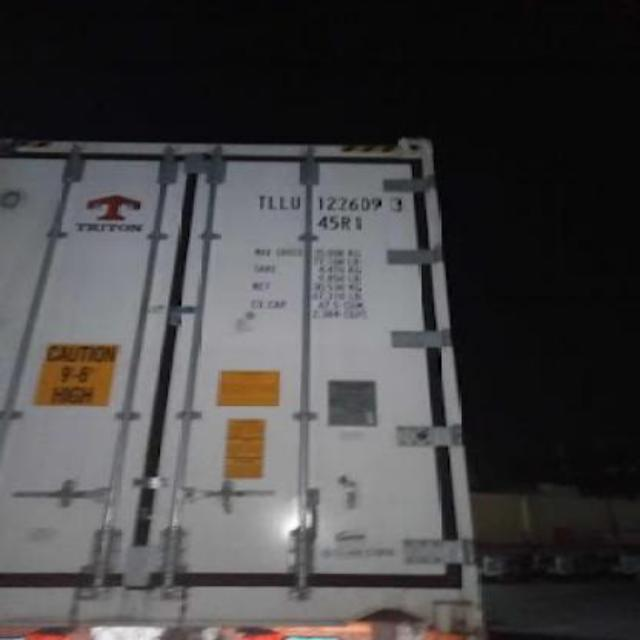0: (360, 198, 372, 212)
1: (318, 196, 326, 212)
2: (328, 195, 338, 211), (340, 198, 348, 212)
3: (394, 198, 404, 212)
6: (348, 196, 360, 212)
9: (370, 198, 382, 212)
L: (268, 194, 278, 210), (280, 194, 288, 210)
T: (258, 193, 266, 211)
U: (292, 194, 302, 210)
